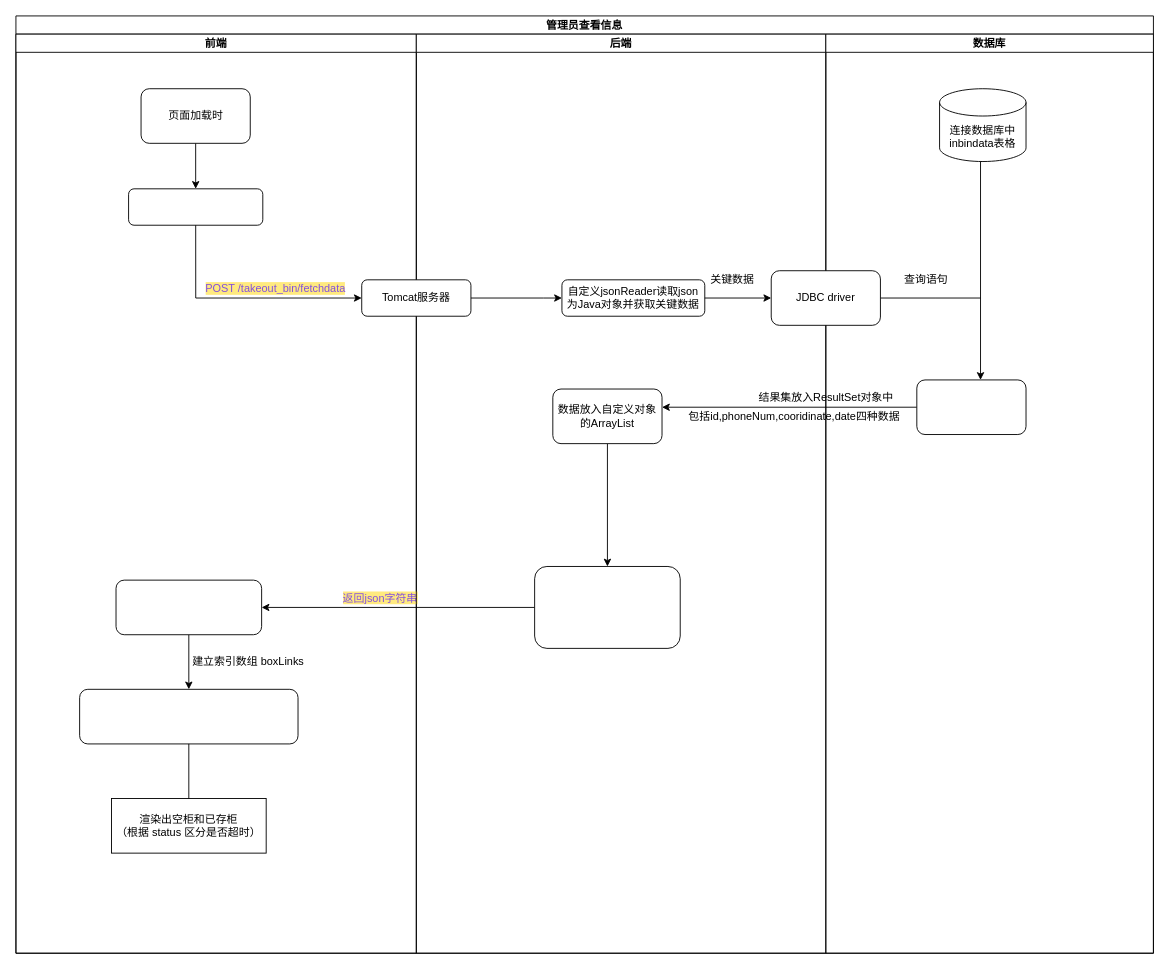
Some shapes in this 1169 by 969 pixel diagram are drawn without their labels. The centre of each missing label's shape, as x and y in pixels:
传入getTakeoutData方法: the point at 195,206
将data集合中的各个参数传入本地外卖信息 items 中: the point at 188,607
得到查询结果集: the point at 971,407
根据 boxLinks 将外卖坐标映射至每个柜格: the point at 188,716
每个元素封装为JSONObject JSONObject封装为JSONArray JSONArray再套一层JSONObject: the point at 607,607
